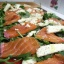pizza: (1, 3, 64, 64)
